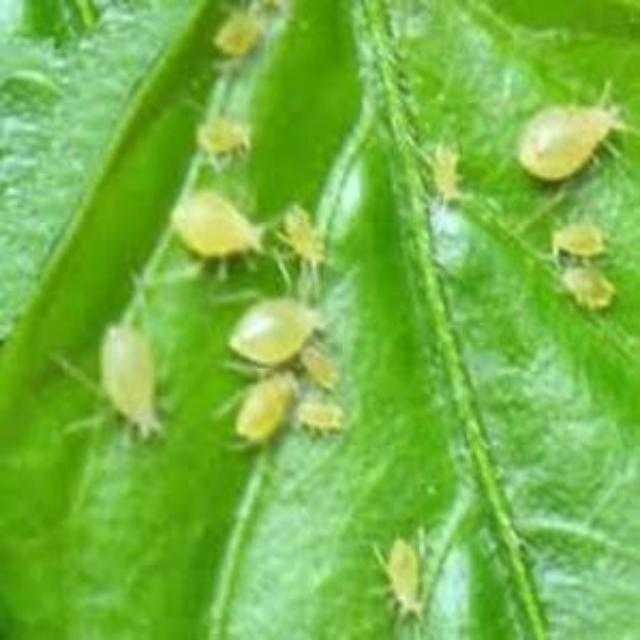Green peach aphid: (54, 284, 202, 456), (494, 75, 640, 211), (340, 512, 470, 640), (155, 170, 277, 286), (197, 352, 303, 476), (195, 273, 328, 359), (393, 125, 499, 232), (172, 101, 280, 180), (202, 2, 302, 80), (527, 252, 625, 324), (274, 190, 338, 282), (519, 210, 621, 264), (275, 386, 351, 458), (292, 332, 346, 390)
